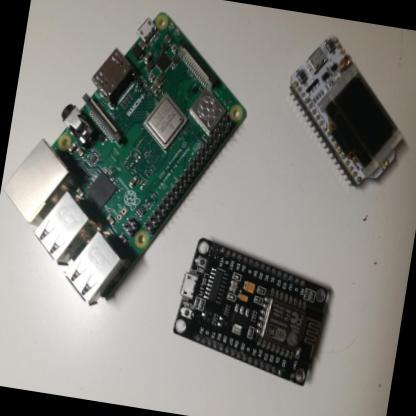ESP8266: (161, 230, 336, 392)
Heltec_ESP32_Lora: (275, 27, 416, 201)
Raspberry_Pi_3: (1, 1, 264, 328)
